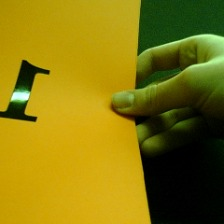orange1: (1, 55, 53, 126)
